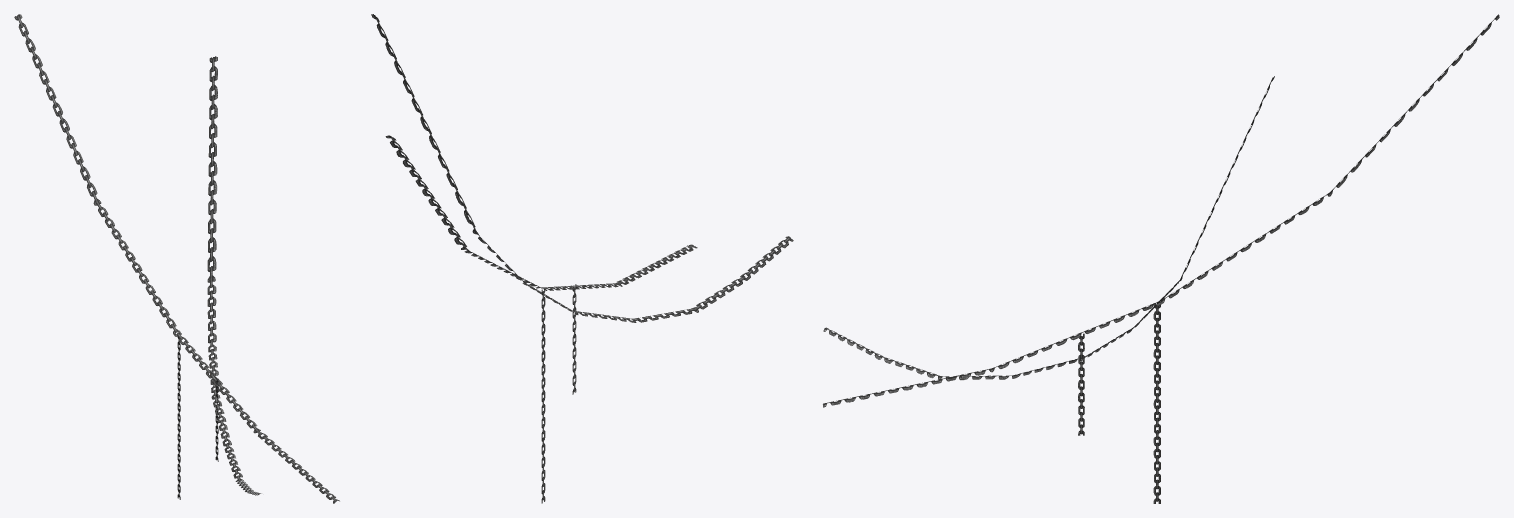
File: fb_jianyu_tielian01.FBX
The picture shows the model from 3 angles, left to right: view 1: azimuth 30°, elevation 25°; view 2: azimuth 150°, elevation 25°; view 3: azimuth 270°, elevation 25°; orthographic projection. The views are drawn at different scales.
Visible parts, largest first — view 1: fb_jianyu_tielian01; view 2: fb_jianyu_tielian01; view 3: fb_jianyu_tielian01.
Part boxes in pixels (x1,y1,x2,y2): fb_jianyu_tielian01: (14, 14, 339, 503); fb_jianyu_tielian01: (371, 14, 793, 503); fb_jianyu_tielian01: (823, 14, 1499, 503).
Size of the model in its own units: 478 by 1240 by 1596.
